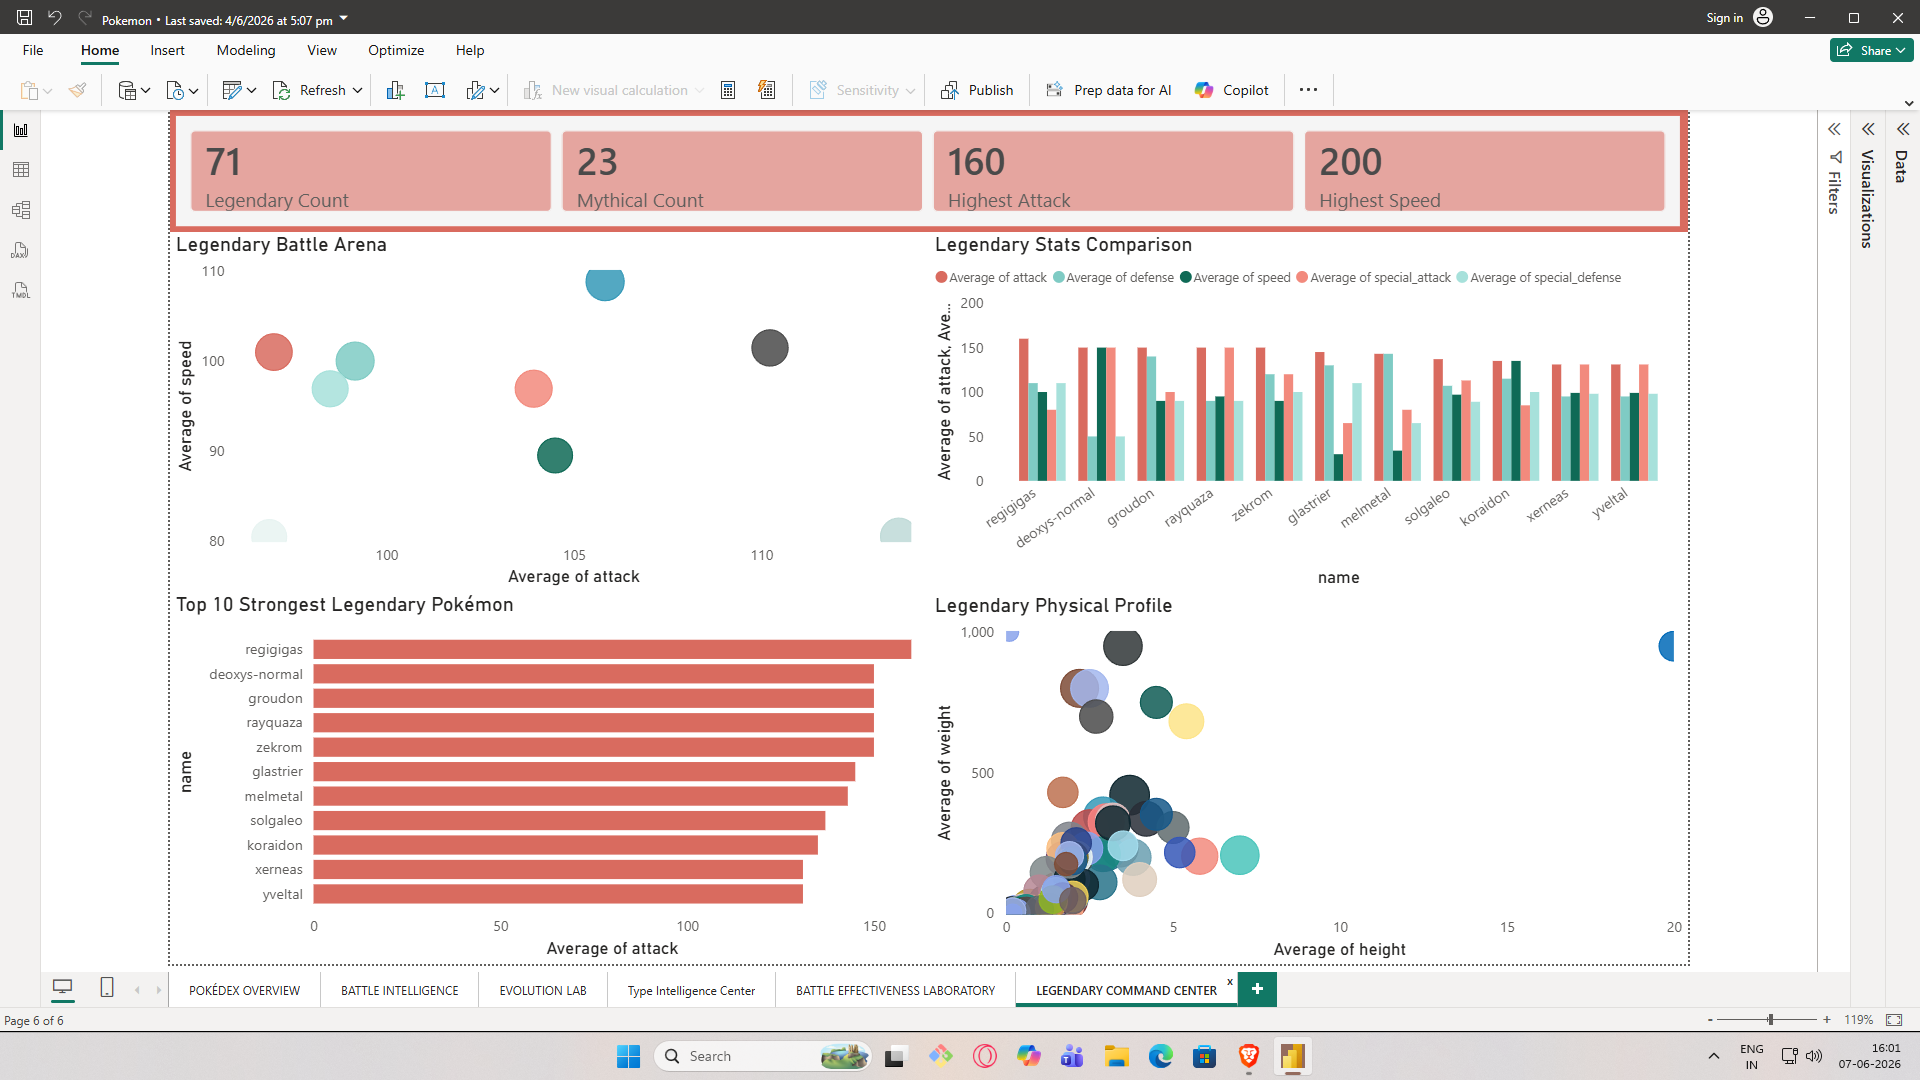

Layout of this report page (visuals, bound fields, positions):
{"tool":"powerbi","page":{"name":"LEGENDARY COMMAND CENTER","canvas":[1280,720],"ordinal":5},"visuals":[{"type":"cardVisual","fields":{"Data":["Pokemon.Legendary Count","Pokemon.Mythical Count","Pokemon.Highest Attack","Pokemon.Highest Speed"]},"box":[0,0,1280,103.1],"z":0},{"type":"scatterChart","title":"Legendary Battle Arena","fields":{"X":["Avg(Pokemon.attack)"],"Y":["Avg(Pokemon.speed)"],"Size":["Avg(Pokemon.hp)"],"Series":["Pokemon.generation"]},"box":[0,103.1,640,303.5],"z":1000},{"type":"clusteredBarChart","title":"Top 10 Strongest Legendary Pokémon","fields":{"Category":["Pokemon.name"],"Y":["Avg(Pokemon.attack)"]},"box":[0,406.6,640,313.2],"z":2000},{"type":"clusteredColumnChart","title":"Legendary Stats Comparison","fields":{"Category":["Pokemon.name"],"Y":["Avg(Pokemon.attack)","Avg(Pokemon.defense)","Avg(Pokemon.speed)","Avg(Pokemon.special_attack)","Avg(Pokemon.special_defense)"]},"box":[640,103.1,640,303.5],"z":3000},{"type":"scatterChart","title":"Legendary Physical Profile","fields":{"X":["Avg(Pokemon.height)"],"Y":["Avg(Pokemon.weight)"],"Size":["Avg(Pokemon.attack)"],"Series":["Pokemon.types"],"Category":["Pokemon.name"]},"box":[640,407,640,313],"z":4000}]}

Visuals, with their boxes on the page's 1280x720 design canvas (x1, y1, x2, y2). These are canvas units, not pixel positions in the 1920x1080 screenshot, which may show the page scaled, cropped or inside an application window:
cardVisual - Pokemon.Legendary Count x Pokemon.Mythical Count: bbox=(0, 0, 1280, 103)
"Legendary Battle Arena" scatterChart: bbox=(0, 103, 640, 407)
"Top 10 Strongest Legendary Pokémon" clusteredBarChart: bbox=(0, 407, 640, 720)
"Legendary Stats Comparison" clusteredColumnChart: bbox=(640, 103, 1280, 407)
"Legendary Physical Profile" scatterChart: bbox=(640, 407, 1280, 720)
